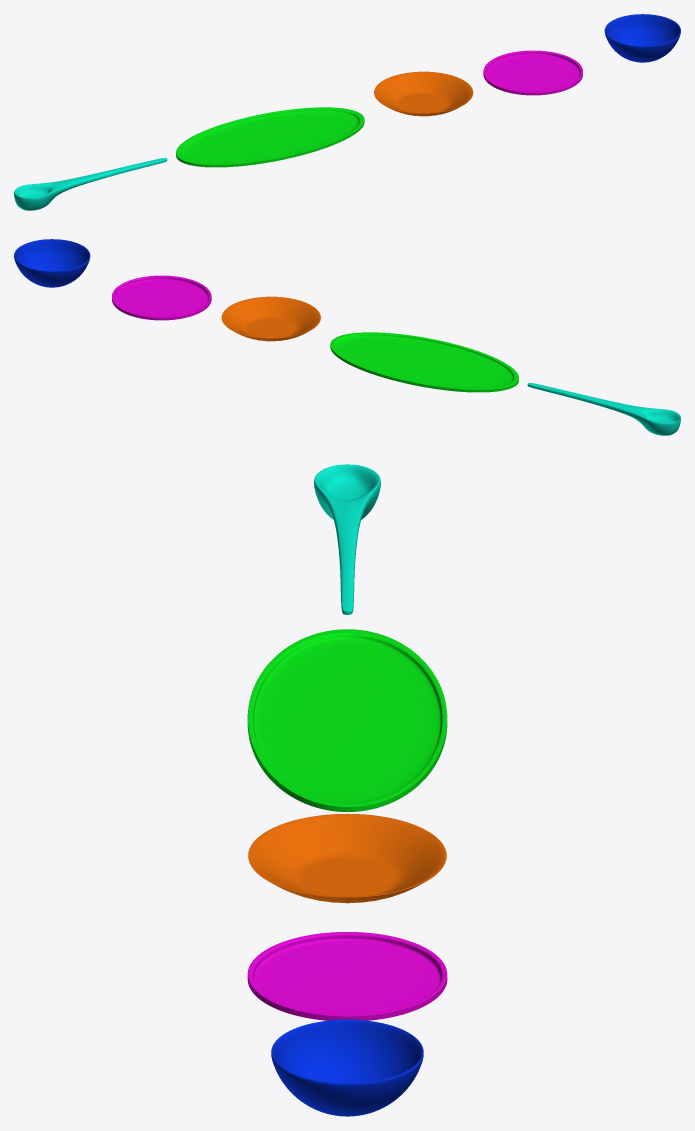
The model's file is SM_plato_high.fbx.
3 renders of one model, top to bottom at view 1: azimuth 30°, elevation 25°; view 2: azimuth 150°, elevation 25°; view 3: azimuth 270°, elevation 25°, orthographic. The views are drawn at different scales.
Visible parts, largest first — view 1: SM_Tray_high, SM_Plate_high, SM_SoupPlate_high, SM_Bowl_high, SM_Spoon_high; view 2: SM_Tray_high, SM_Plate_high, SM_SoupPlate_high, SM_Bowl_high, SM_Spoon_high; view 3: SM_Tray_high, SM_Plate_high, SM_SoupPlate_high, SM_Bowl_high, SM_Spoon_high.
Boxes of the visible parts, box(x1,y1,x2,y2) form: SM_Tray_high: box(176, 107, 364, 167); SM_Plate_high: box(483, 50, 582, 95); SM_SoupPlate_high: box(374, 71, 473, 116); SM_Bowl_high: box(604, 14, 680, 62); SM_Spoon_high: box(14, 158, 167, 210); SM_Tray_high: box(330, 332, 518, 392); SM_Plate_high: box(112, 275, 211, 320); SM_SoupPlate_high: box(221, 296, 320, 341); SM_Bowl_high: box(14, 239, 90, 287); SM_Spoon_high: box(527, 383, 680, 435); SM_Tray_high: box(247, 629, 447, 811); SM_Plate_high: box(247, 932, 447, 1020); SM_SoupPlate_high: box(248, 813, 446, 903); SM_Bowl_high: box(271, 1019, 423, 1116); SM_Spoon_high: box(314, 464, 380, 614).
Bounding box in the file's own units: 181 × 7.6 × 23.66.
